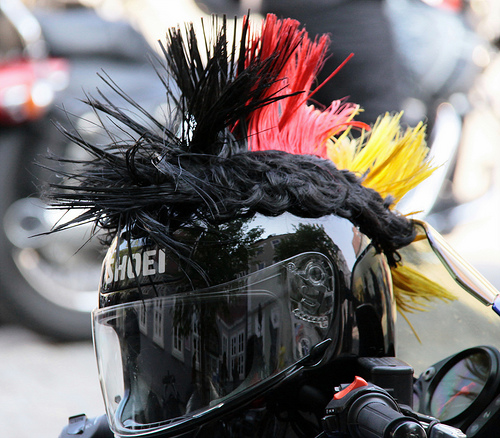helmet: (83, 179, 411, 410)
